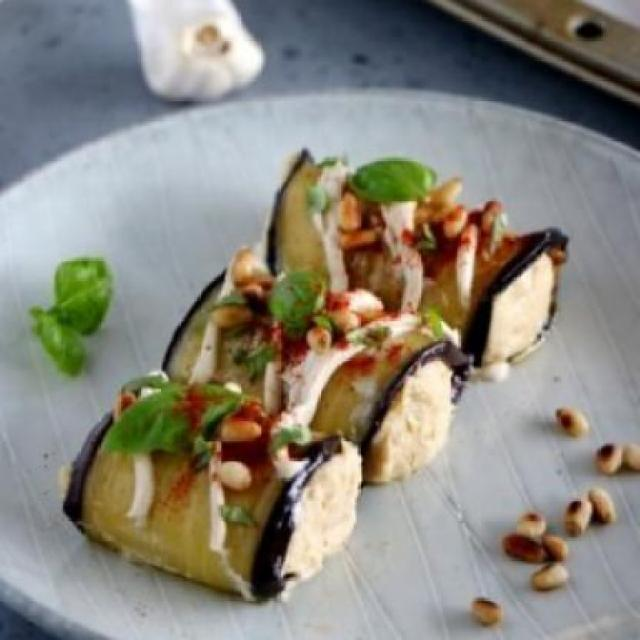eggplant: (61, 133, 572, 609)
hummus: (270, 460, 367, 578), (372, 351, 453, 474), (484, 248, 562, 370)
